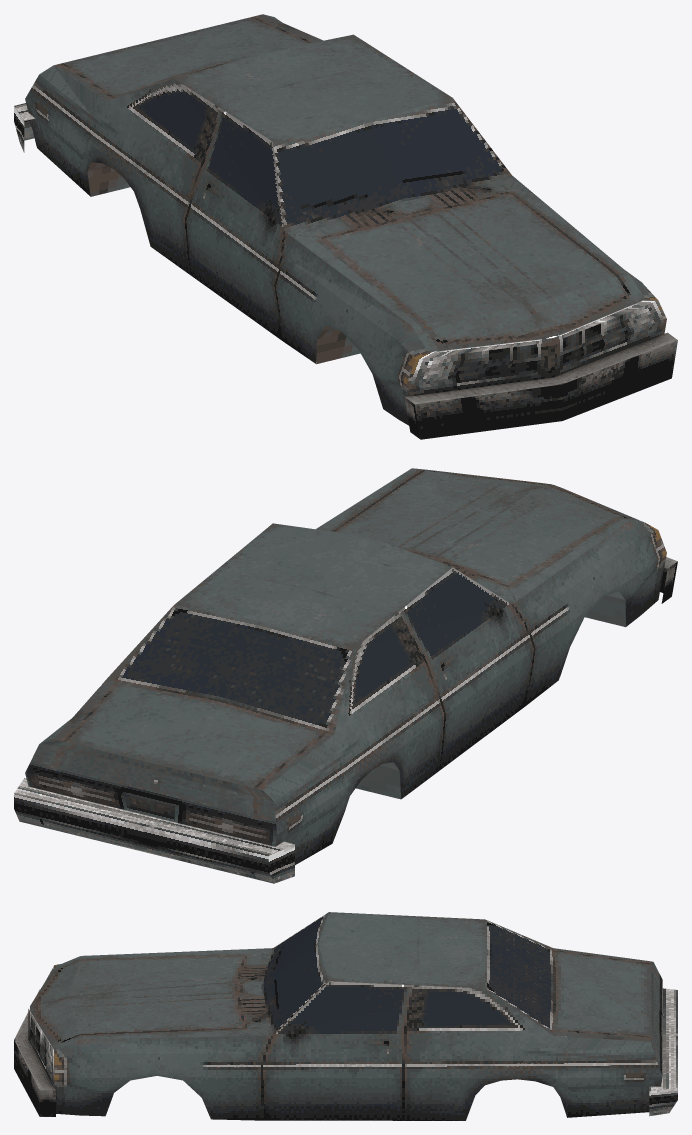
File: ventura.glb
3 views of the same model, one above another, from view 1: azimuth 30°, elevation 25°; view 2: azimuth 150°, elevation 25°; view 3: azimuth 270°, elevation 25° (orthographic). The views are drawn at different scales.
Parts seen in each view (by area): view 1: Car; view 2: Car; view 3: Car.
Boxes of the visible parts, x1,y1,x2,y2 form: Car: (14,14,677,439); Car: (14,468,677,883); Car: (14,912,677,1120).
Size of the model in its own units: 1.96 by 1.14 by 5.28.
1 material, 1 textured.
